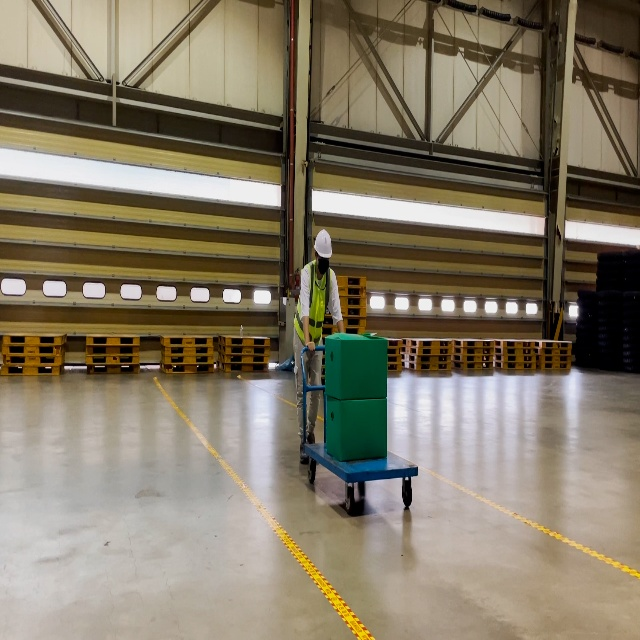Box: (325, 332, 388, 400), (326, 394, 387, 462)
Worker: (293, 229, 345, 463)
